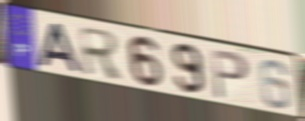6: (126, 33, 164, 90), (258, 59, 292, 111)
9: (170, 42, 207, 96)
A: (37, 21, 84, 75)
P: (209, 47, 251, 102)
R: (77, 24, 126, 82)
